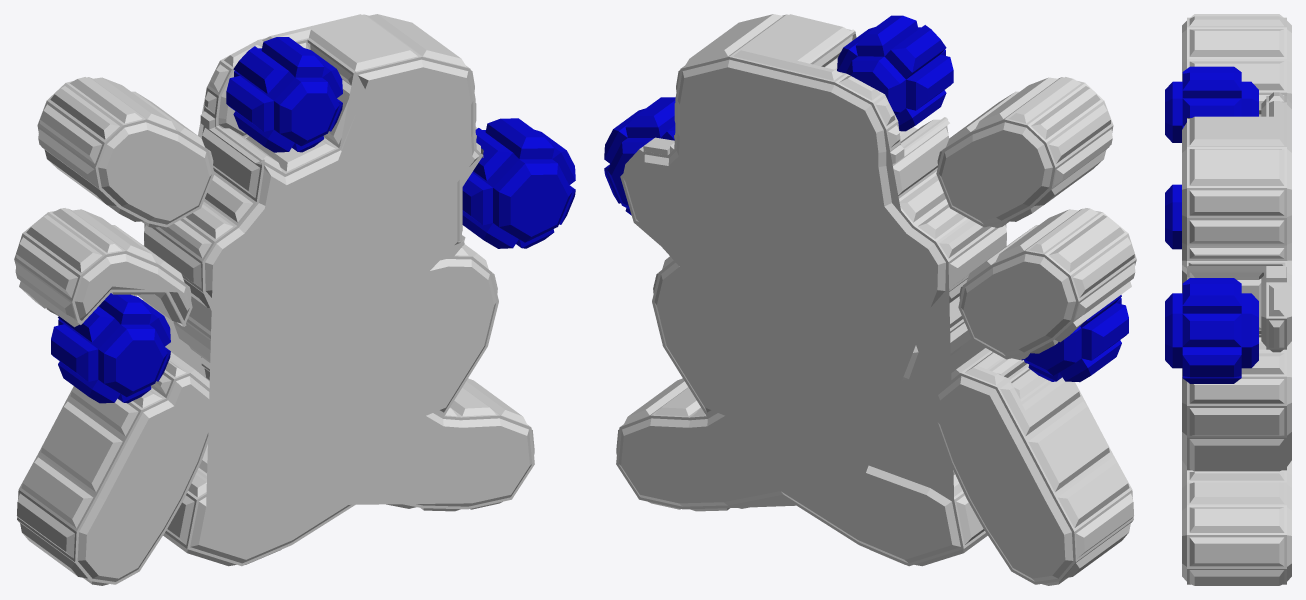
Rendered from Ch_China_没_01.fbx.
3 renders of one model, left to right at view 1: azimuth 30°, elevation 25°; view 2: azimuth 150°, elevation 25°; view 3: azimuth 270°, elevation 25°, orthographic. The views are drawn at different scales.
Visible parts, largest first — view 1: sphere1; view 2: sphere1; view 3: sphere1.
Part boxes in pixels (x1,y1,x2,y2): sphere1: (14,14,575,585); sphere1: (604,14,1136,585); sphere1: (1165,14,1291,585).
Size of the model in its own units: 1.01 by 0.9481 by 0.2541.
